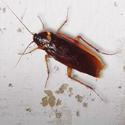cockroach: (27, 26, 106, 82)
